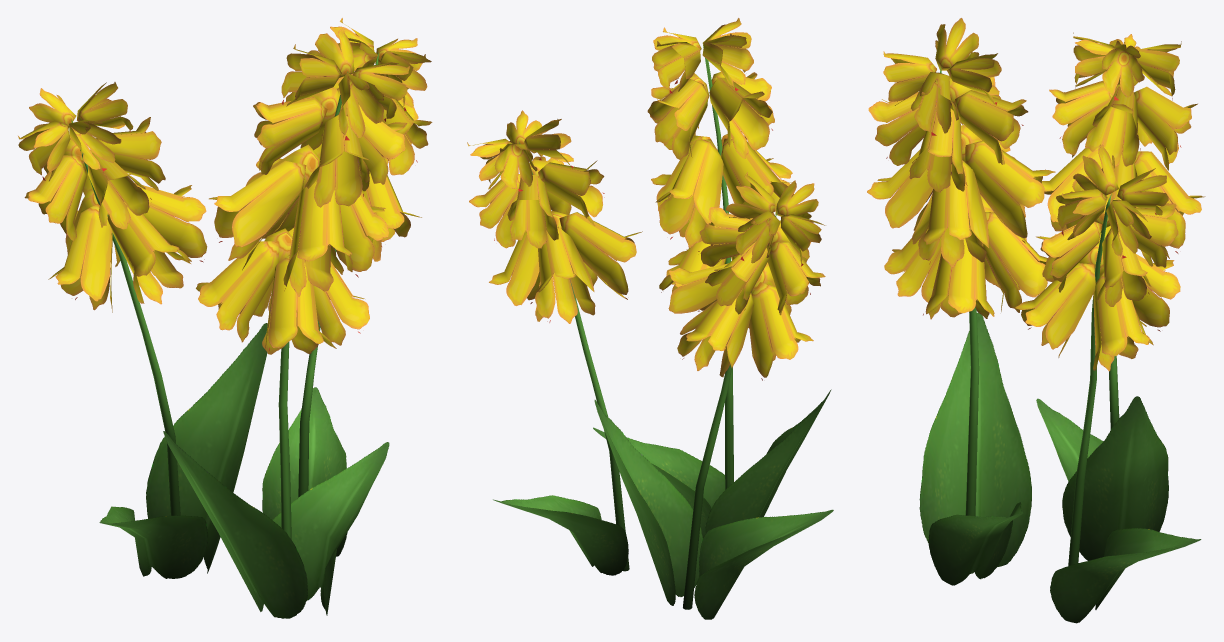
Rendered from nature-flower-4-group.glb.
3 renders of one model, left to right at view 1: azimuth 30°, elevation 25°; view 2: azimuth 150°, elevation 25°; view 3: azimuth 270°, elevation 25°, orthographic. The views are drawn at different scales.
Visible parts, largest first — view 1: Flower_4_Group; view 2: Flower_4_Group; view 3: Flower_4_Group.
Part boxes in pixels (<box>): Flower_4_Group: <box>18,18,432,618</box>; Flower_4_Group: <box>467,18,833,619</box>; Flower_4_Group: <box>867,18,1205,623</box>.
Bounding box in the file's own units: 1.78 × 2.49 × 1.37.
2 materials, 2 textured.
